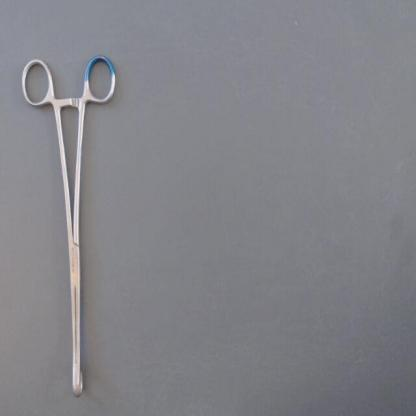Sponge Forceps: (11, 47, 123, 406)
